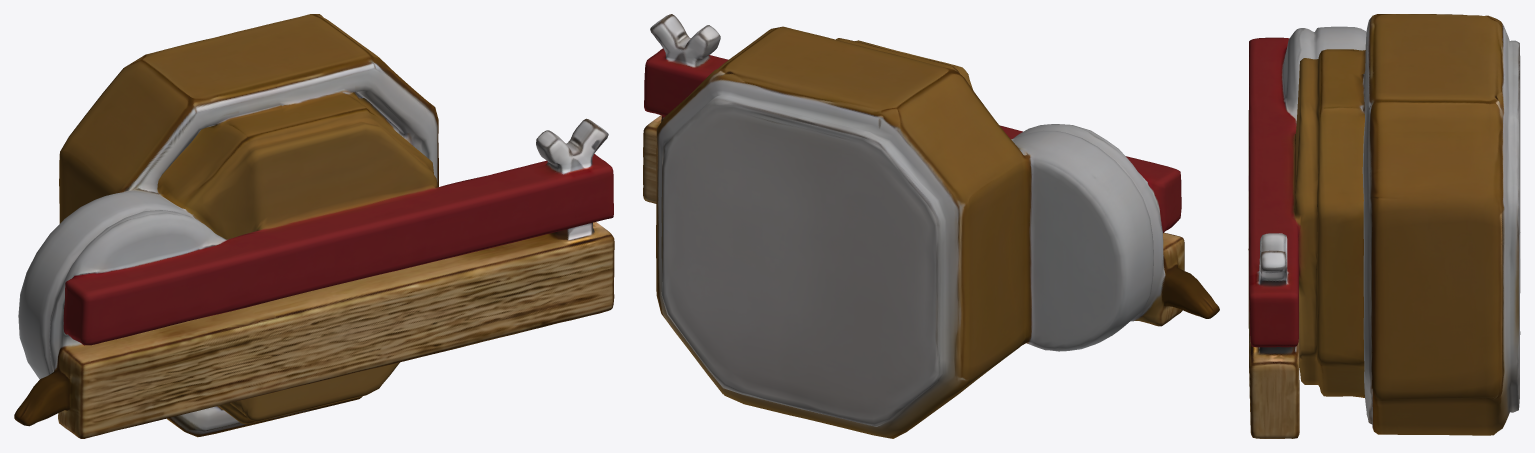
File: rodin_c.glb
The picture shows the model from 3 angles, left to right: view 1: azimuth 30°, elevation 25°; view 2: azimuth 150°, elevation 25°; view 3: azimuth 270°, elevation 25°; orthographic projection. The views are drawn at different scales.
Parts seen in each view (by area): view 1: model; view 2: model; view 3: model.
Part boxes in pixels (x1,y1,x2,y2): model: (14, 14, 614, 438); model: (643, 14, 1219, 438); model: (1248, 14, 1520, 438).
Bounding box in the file's own units: 1.89 × 1.06 × 0.7686.
Materials: 1 (1 with a texture image).
